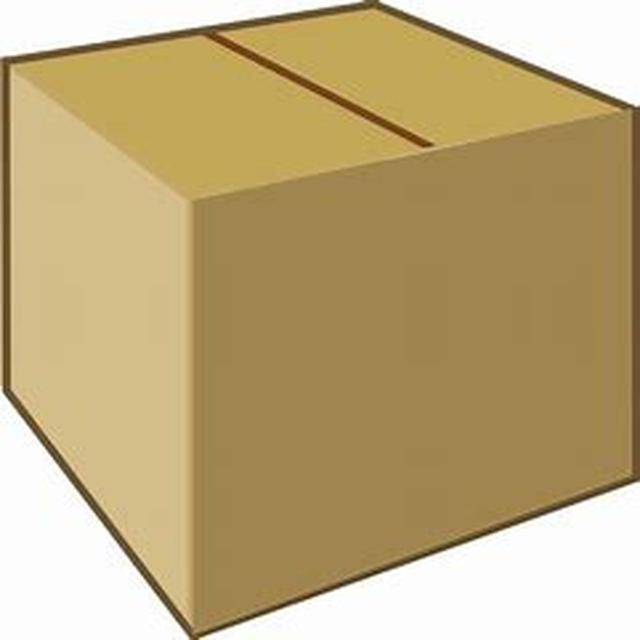box: (24, 15, 610, 620)
